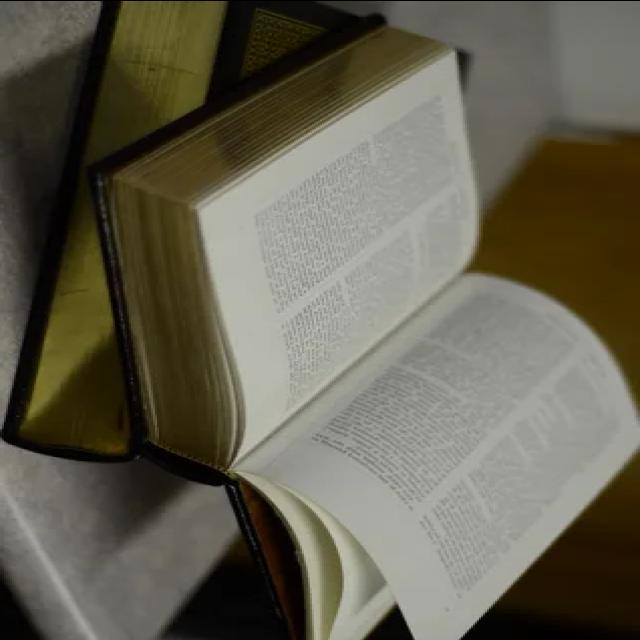book: (82, 20, 640, 640)
